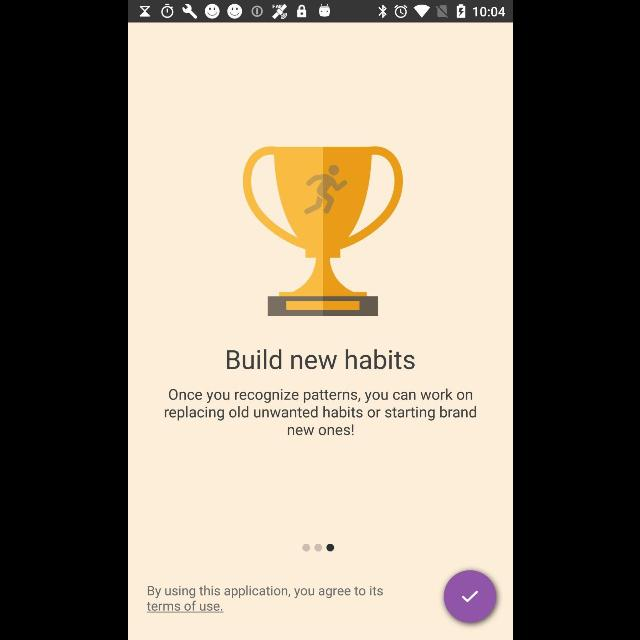button: (442, 570, 496, 622)
image: (242, 146, 402, 316)
pageindicator: (302, 544, 334, 552)
text: (162, 388, 476, 437), (146, 585, 382, 613), (226, 348, 414, 369)
uppertaskbar: (128, 1, 512, 23)
